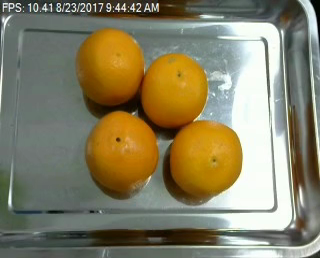Orange: (85, 110, 159, 193), (165, 119, 242, 197), (76, 27, 146, 105), (140, 52, 207, 127)
